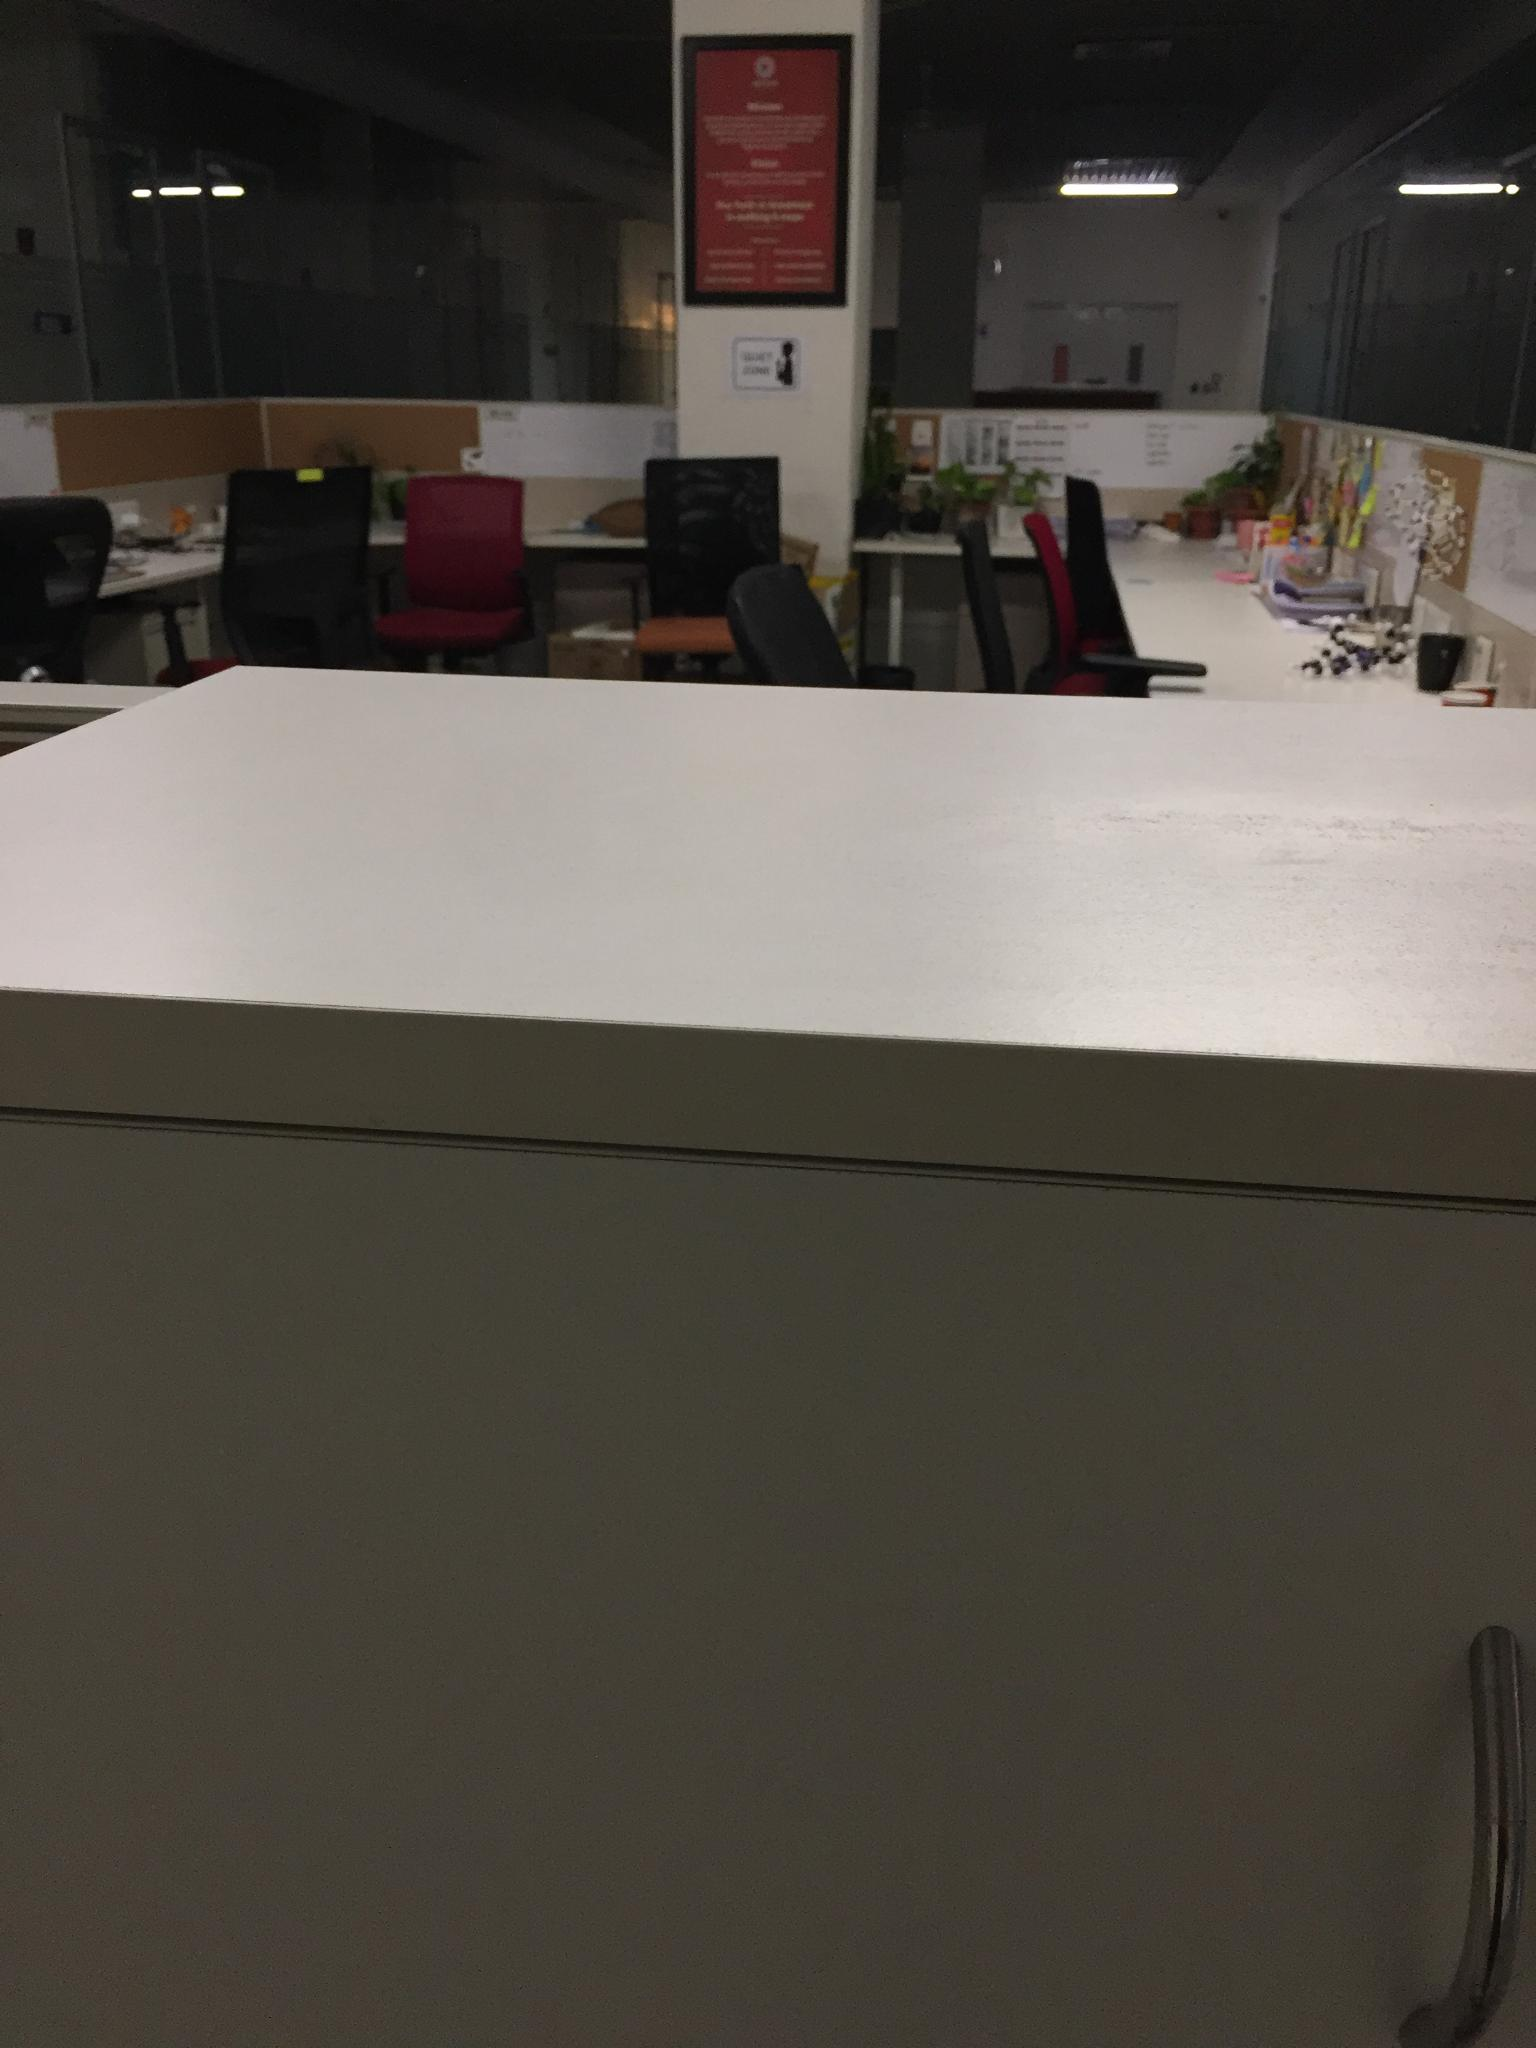chair: (200, 442, 405, 693), (952, 519, 1197, 710), (636, 450, 802, 700), (374, 474, 536, 674), (726, 561, 916, 689), (0, 495, 115, 684), (1070, 469, 1136, 653)
